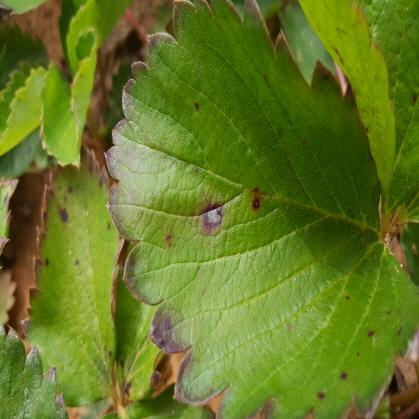Leaf Spot: (103, 0, 418, 418), (19, 136, 130, 408), (299, 0, 418, 220), (0, 321, 70, 418), (112, 277, 167, 400)
